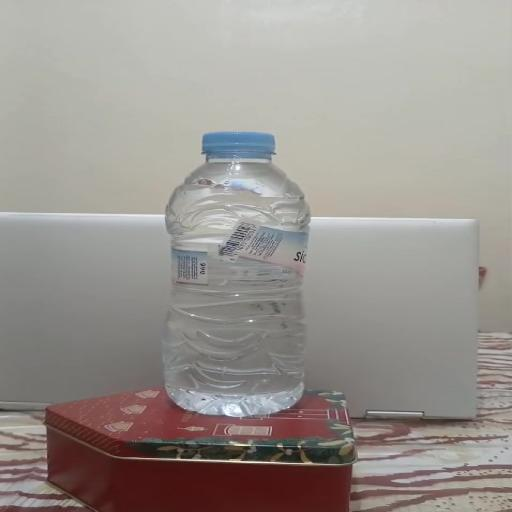bouteille conformite: (155, 108, 348, 434)
